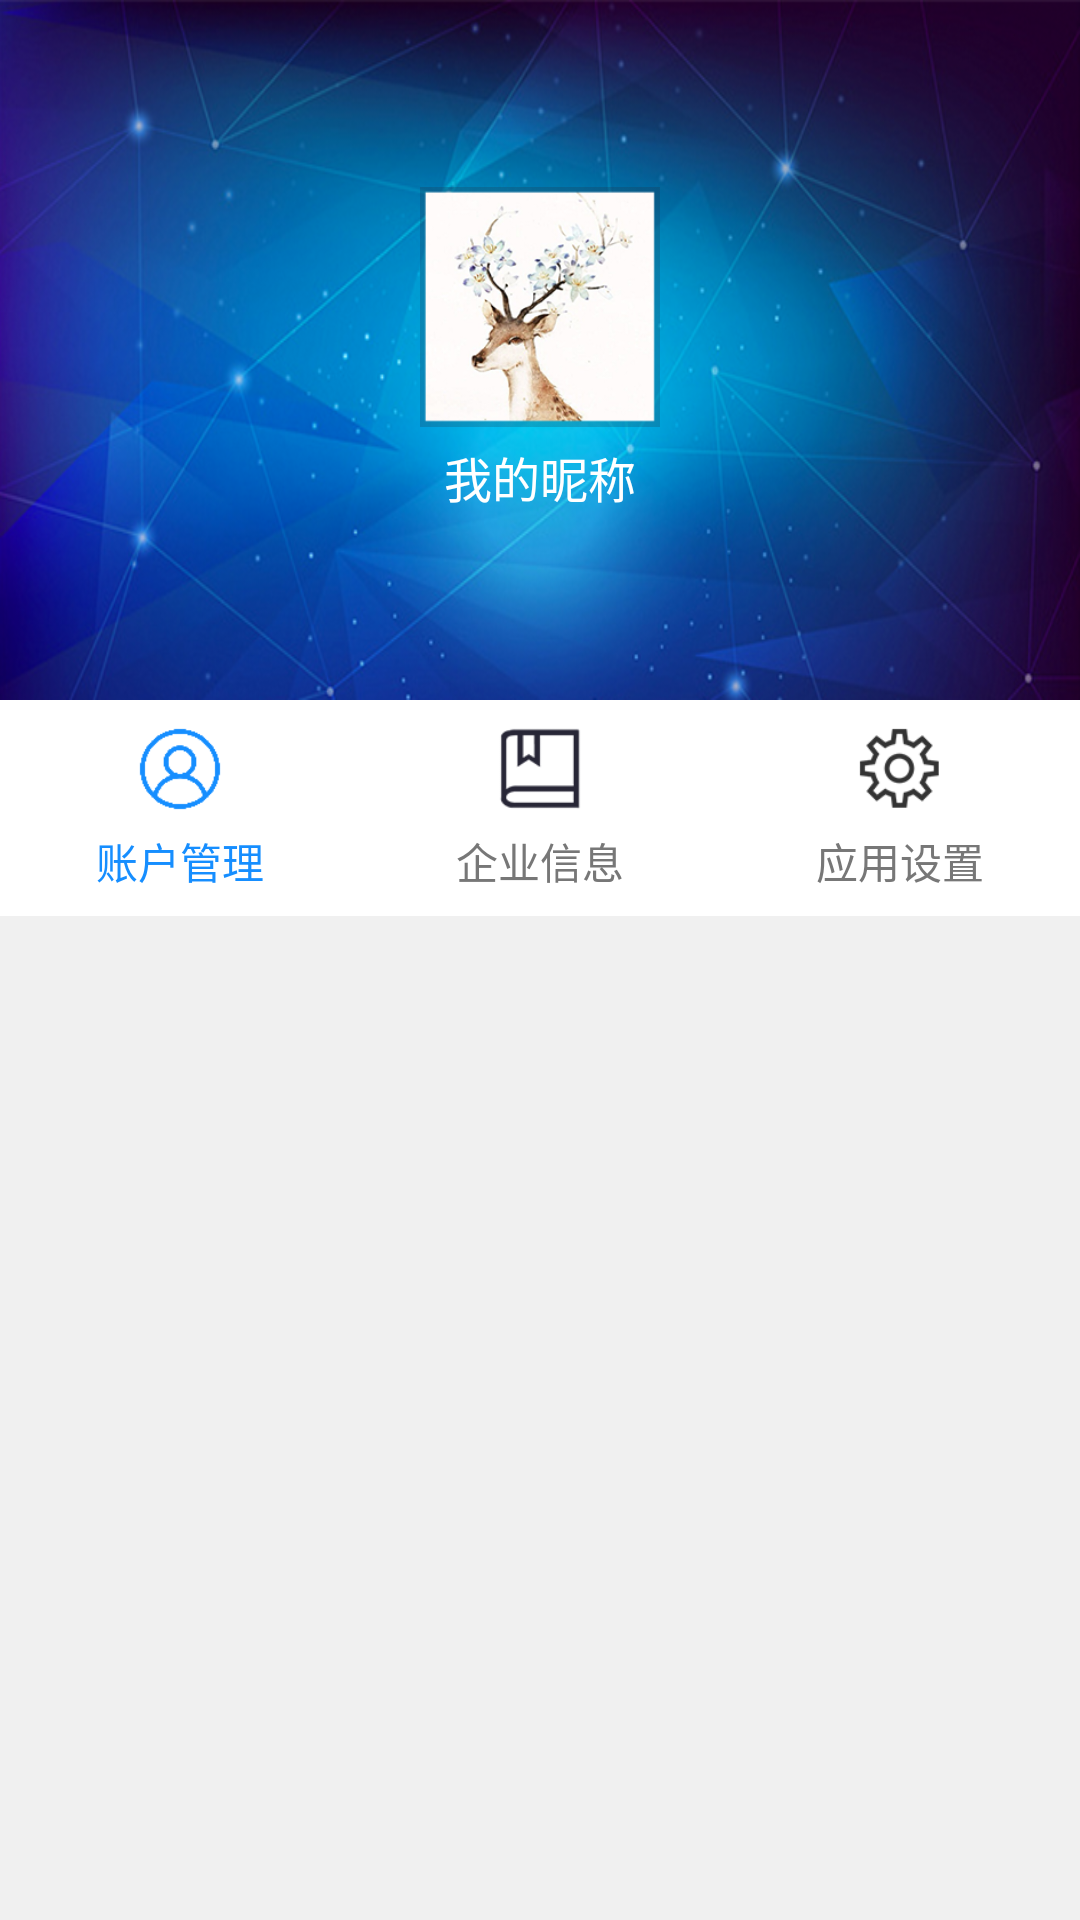

Screen size 1080x1920. Icon name, then its center in pixels as (x=x, y=y):
avator: (x=540, y=307)
